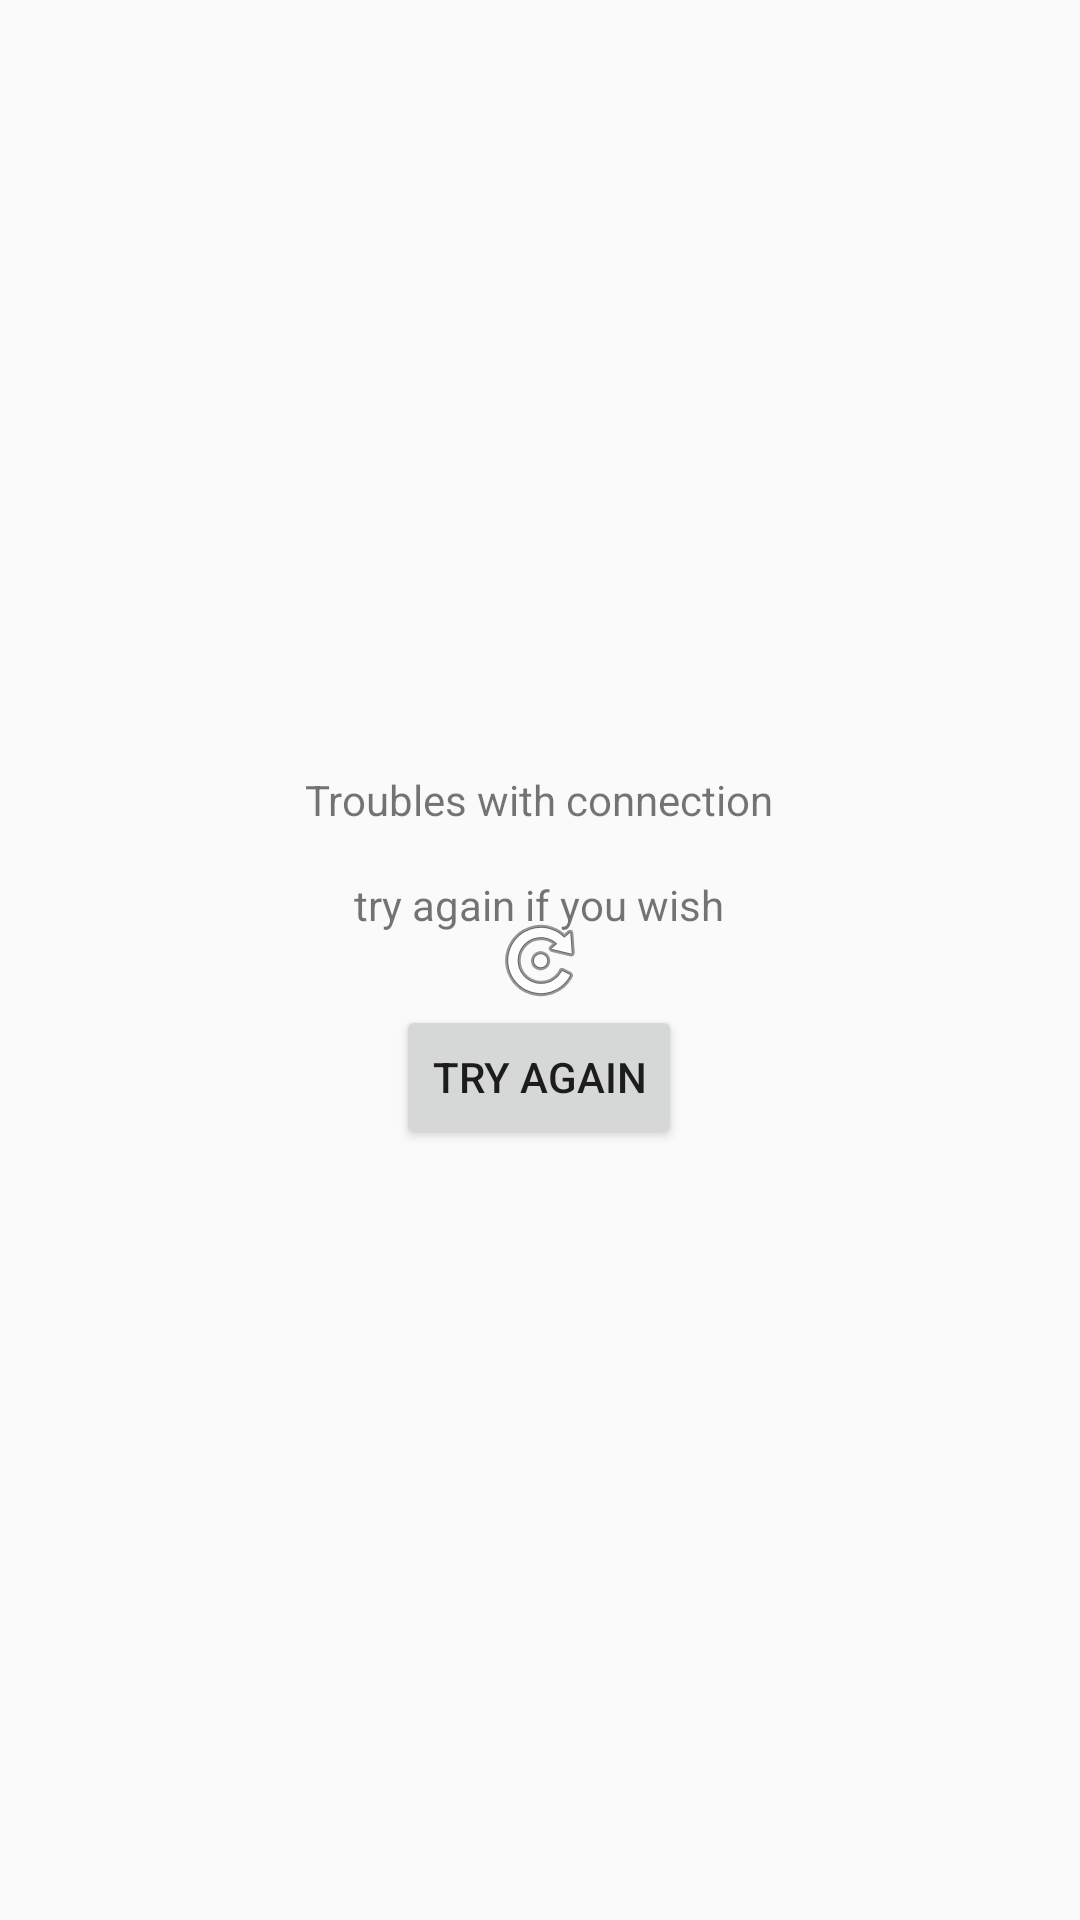

Screen size 1080*1920. Icon name, then its center in pixels as (x,y):
rotate: (540,960)
